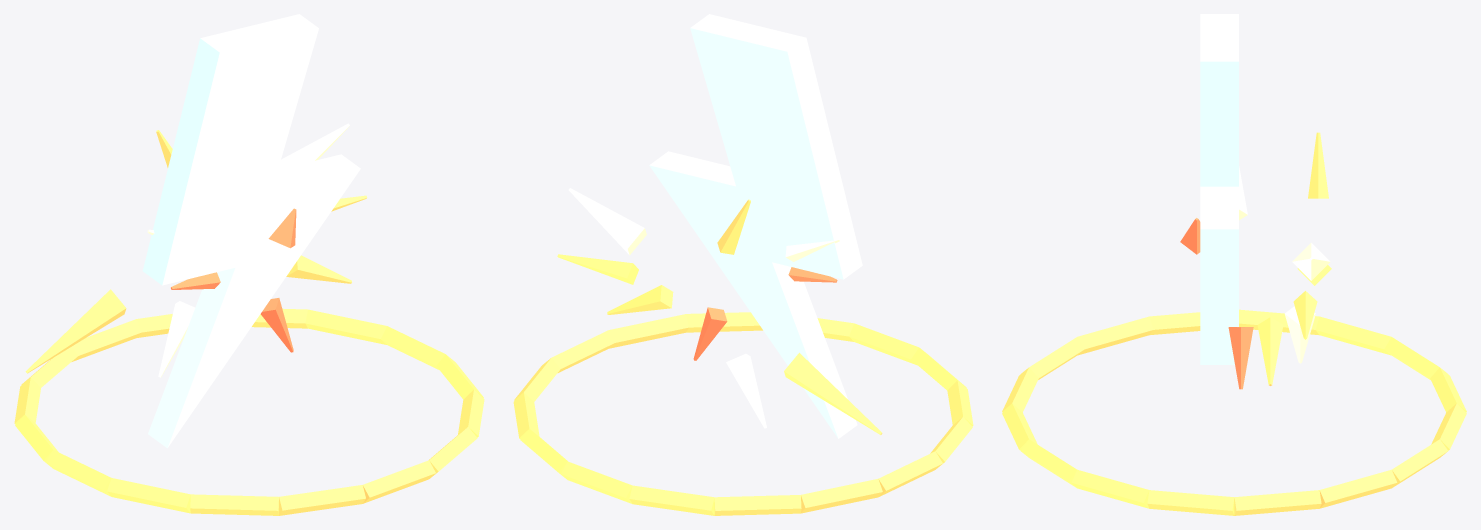
Rendered from bolt.glb.
The picture shows the model from 3 angles, left to right: view 1: azimuth 30°, elevation 25°; view 2: azimuth 150°, elevation 25°; view 3: azimuth 270°, elevation 25°; orthographic projection. The views are drawn at different scales.
Visible parts, largest first — view 1: Lightning dimensional effect.001; view 2: Lightning dimensional effect.001; view 3: Lightning dimensional effect.001.
Boxes of the visible parts, box(x1,y1,x2,y2) form: Lightning dimensional effect.001: box(14, 14, 484, 515); Lightning dimensional effect.001: box(513, 14, 973, 515); Lightning dimensional effect.001: box(1002, 14, 1466, 515).
Size of the model in its own units: 1.57 by 1.43 by 1.57.
